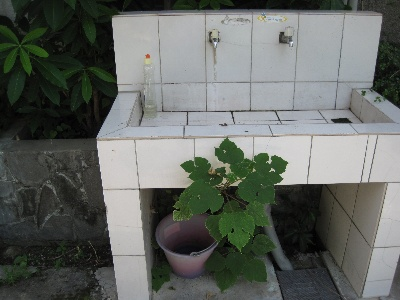bottle: (143, 53, 157, 120)
bucket: (156, 212, 220, 279)
